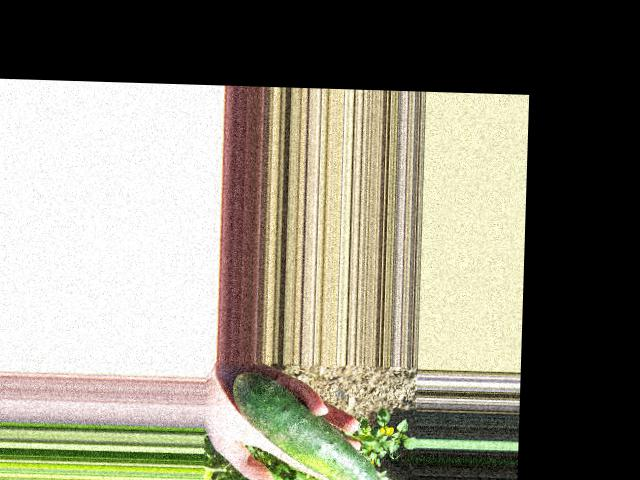cucumber: (231, 372, 382, 480)
